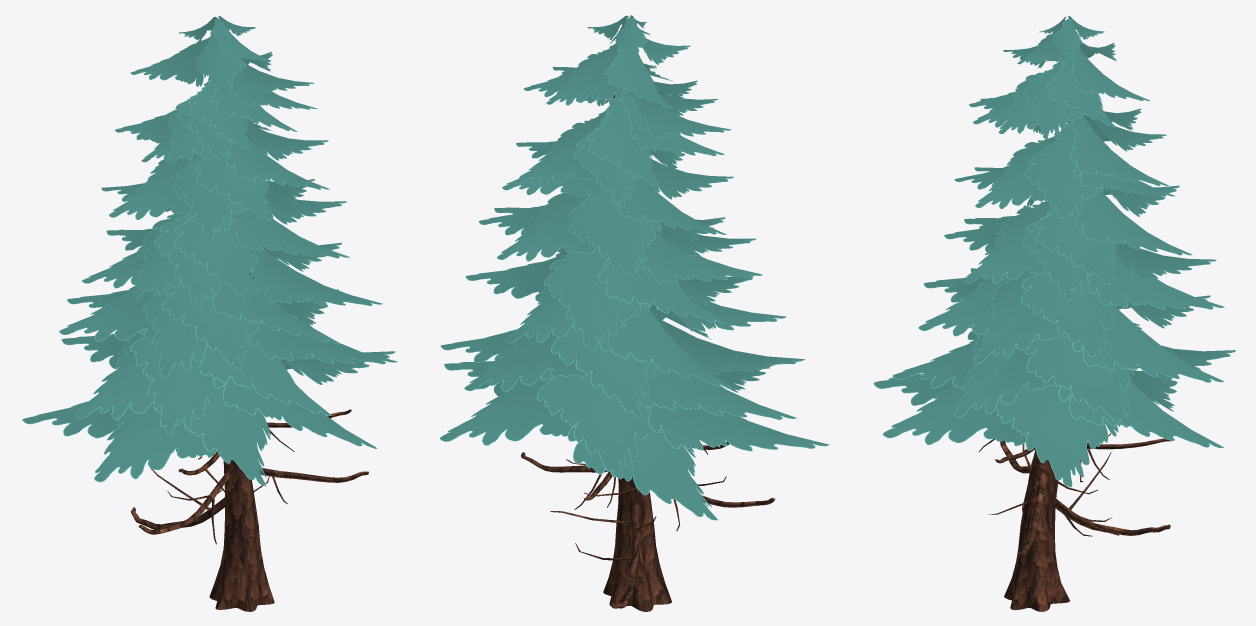
File: gtree_pine_4.glb
The picture shows the model from 3 angles, left to right: view 1: azimuth 30°, elevation 25°; view 2: azimuth 150°, elevation 25°; view 3: azimuth 270°, elevation 25°; orthographic projection. The views are drawn at different scales.
Visible parts, largest first — view 1: model; view 2: model; view 3: model.
Boxes of the visible parts, box(x1,y1,x2,y2) form: model: box(22, 16, 397, 611); model: box(439, 15, 829, 611); model: box(873, 16, 1235, 611).
Bounding box in the file's own units: 4.32 × 6.82 × 4.
2 materials, 2 textured.
